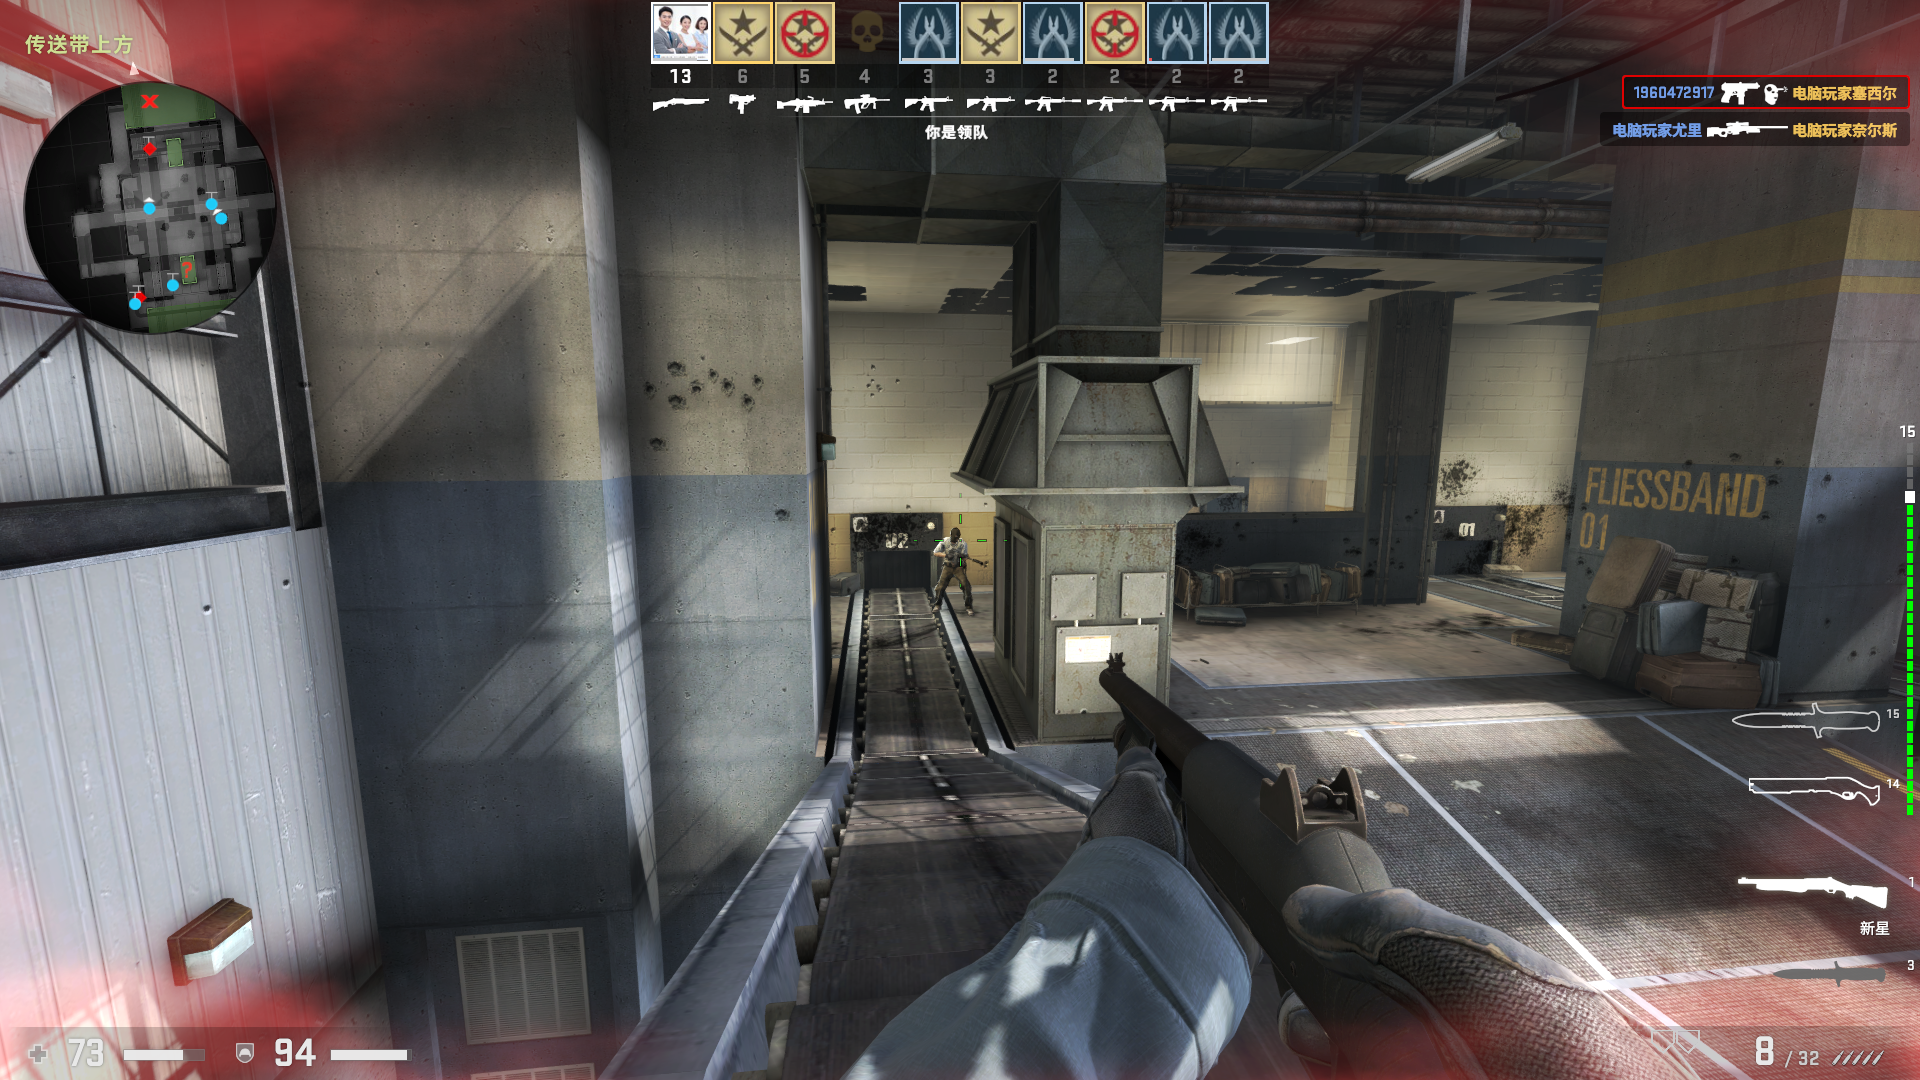person: (933, 525, 982, 619)
